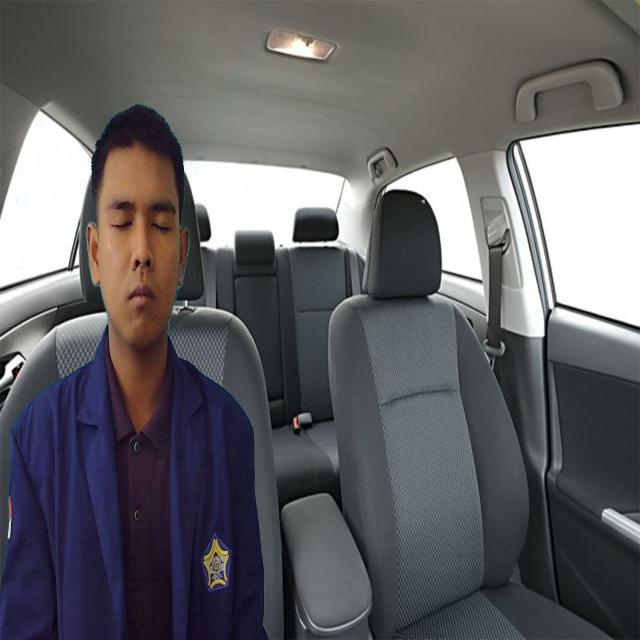no-seatbelt: (93, 124, 191, 358)
